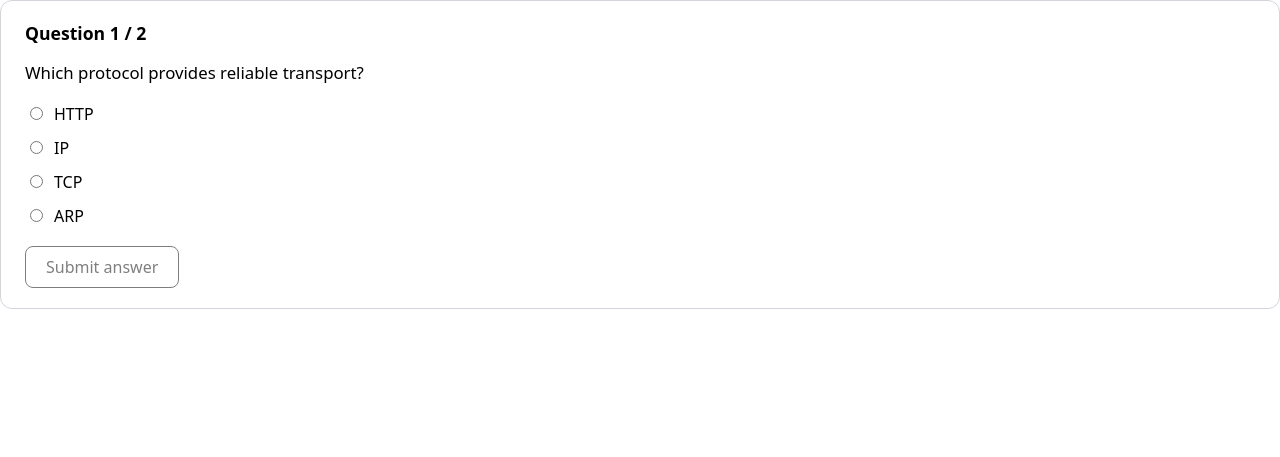
it: Quiz › moves to the next question
Click the radio button labelled "TCP" at (36, 182), box 30,175 -> 43,188
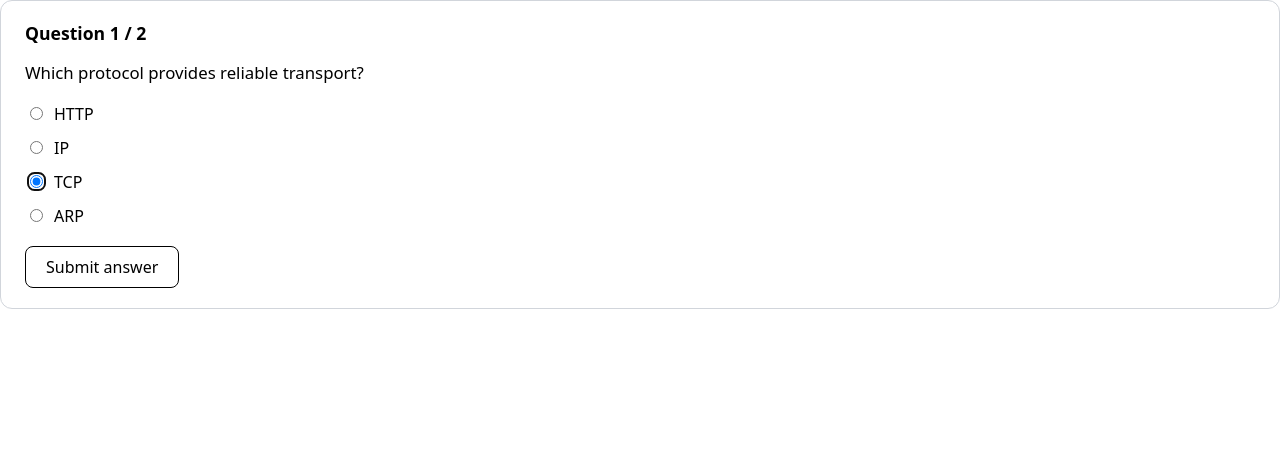
Click the button "Submit answer" at (102, 267), box 25,246 -> 179,288
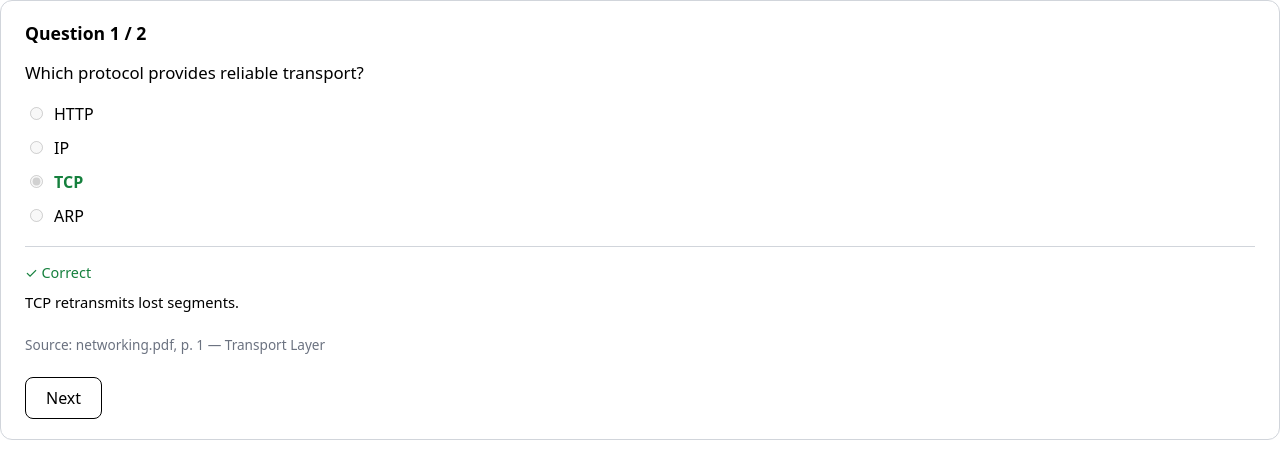
Click the button "Next" at (64, 398), box 25,377 -> 102,419
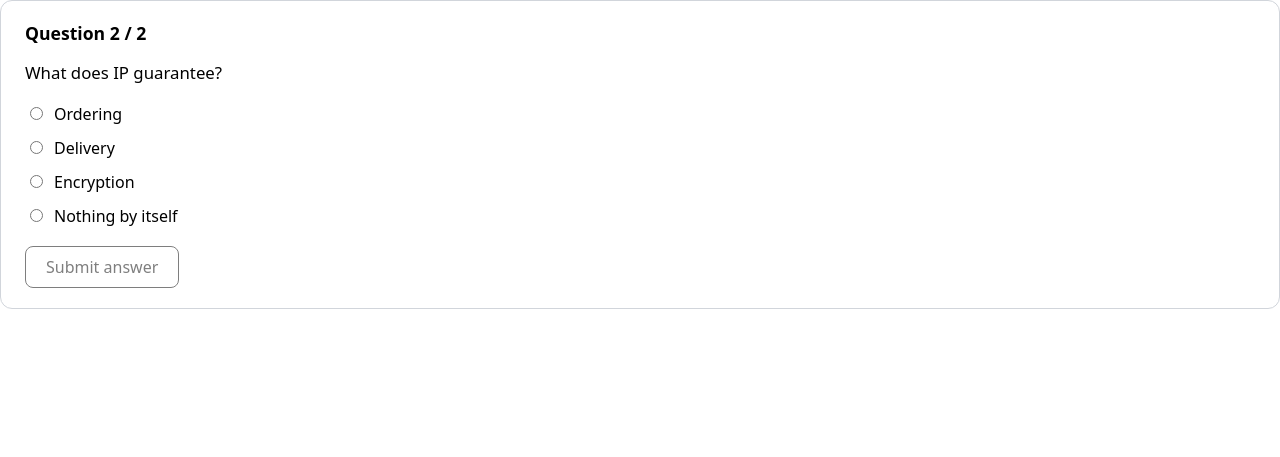
Expected: the heading "Question 2 / 2" is shown, 25,21 -> 146,45
Expected: the text "What does IP guarantee?" is shown, 25,61 -> 222,84
